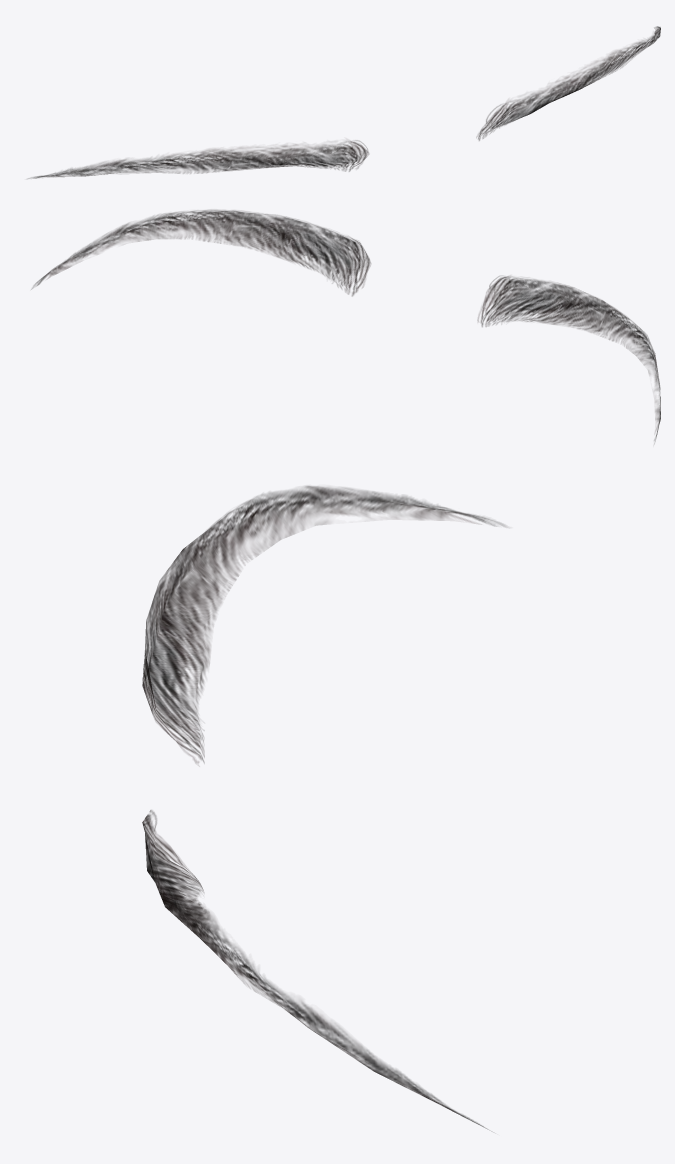
The model's file is eyebrow_default.glb.
3 renders of one model, top to bottom at view 1: azimuth 30°, elevation 25°; view 2: azimuth 150°, elevation 25°; view 3: azimuth 270°, elevation 25°, orthographic. The views are drawn at different scales.
Visible parts, largest first — view 1: Human.eyebrow001; view 2: Human.eyebrow001; view 3: Human.eyebrow001.
Boxes of the visible parts, x1=… form: Human.eyebrow001: x1=28, y1=26, x2=660, y2=178; Human.eyebrow001: x1=31, y1=210, x2=660, y2=443; Human.eyebrow001: x1=142, y1=486, x2=505, y2=1129.
Size of the model in its own units: 0.1208 by 0.0109 by 0.0319.
Materials: 1 (1 with a texture image).
